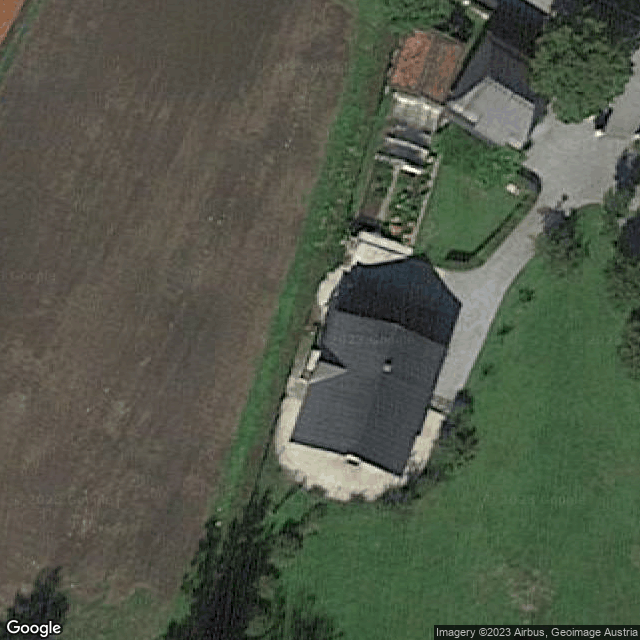dormer: (308, 343, 348, 383)
obstacles: (384, 363, 393, 374)
ridge: (355, 328, 395, 457), (488, 78, 534, 105), (418, 34, 439, 93)
roof: (287, 310, 446, 479), (444, 33, 558, 150), (388, 27, 465, 108)
valley: (444, 79, 487, 105), (534, 77, 557, 105), (525, 105, 534, 141), (486, 36, 488, 79)
